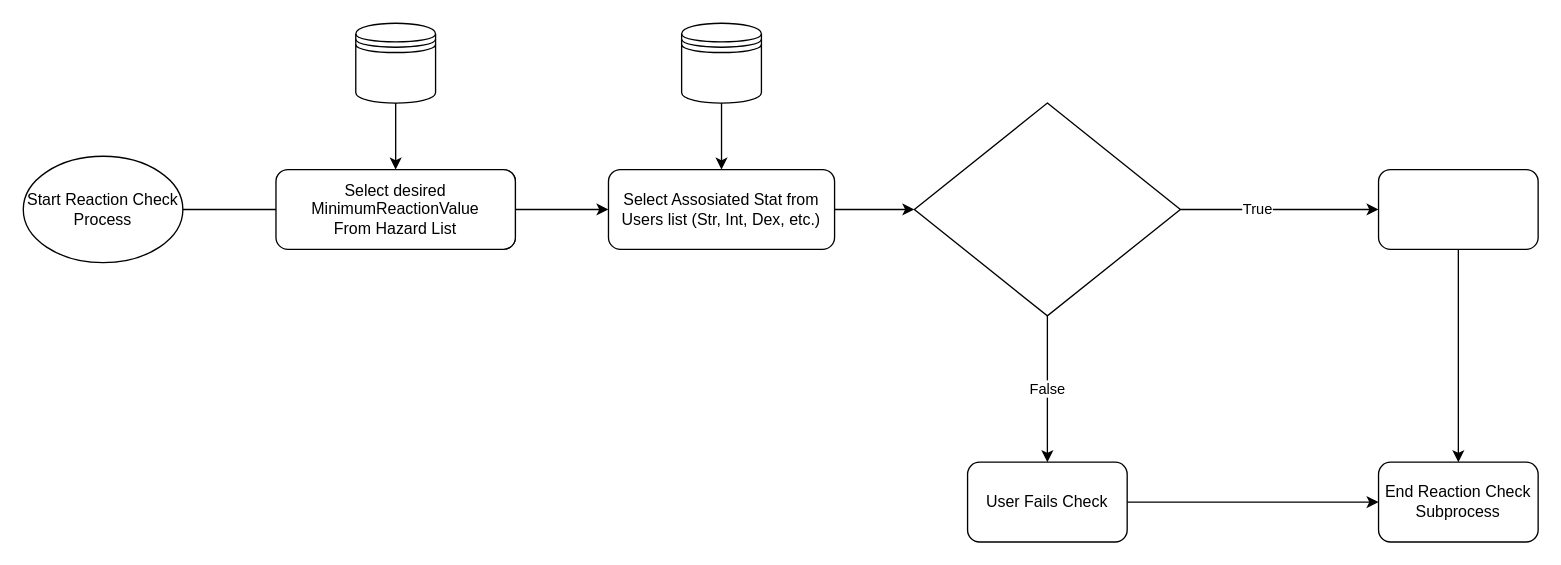
Image size: 1561x565. Some labels were removed from this diagram. The centre of each missing label's shape, as x and y in pixels:
if AssosiatedStat >= MinimumReactionValue: (1046,209)
User Completes Check: (1457,208)
